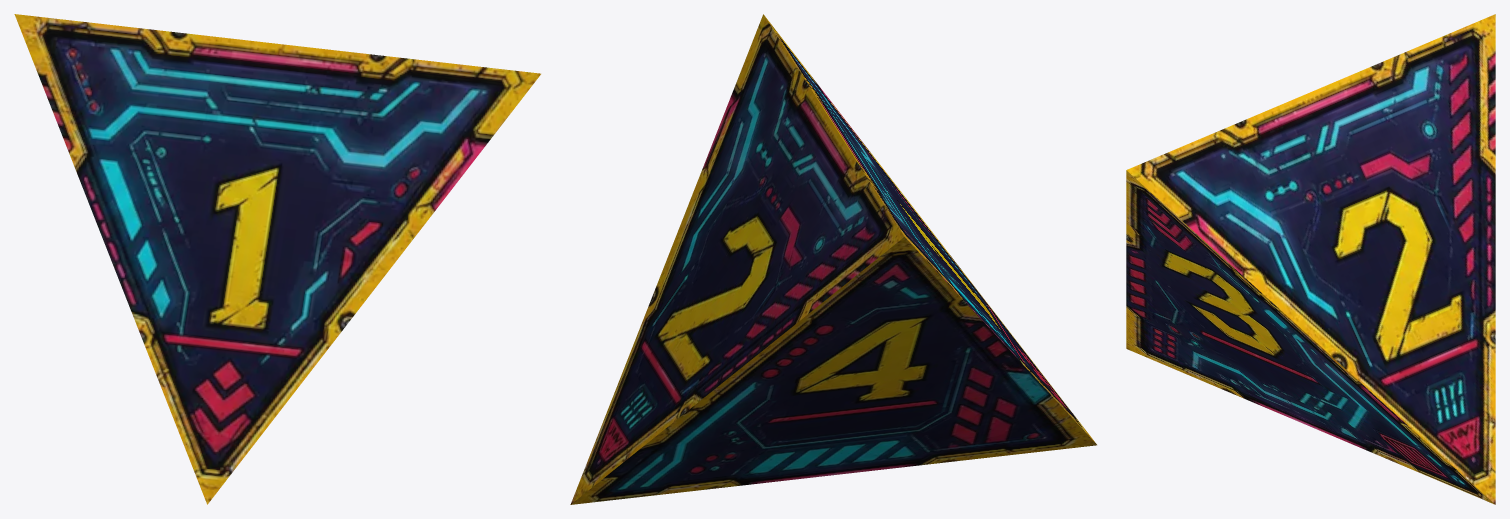
3 renders of one model, left to right at view 1: azimuth 30°, elevation 25°; view 2: azimuth 150°, elevation 25°; view 3: azimuth 270°, elevation 25°, orthographic. The views are drawn at different scales.
Parts seen in each view (by area): view 1: Themed_D4; view 2: Themed_D4; view 3: Themed_D4.
Part boxes in pixels (x1=…): Themed_D4: x1=14, y1=14, x2=540, y2=504; Themed_D4: x1=570, y1=14, x2=1096, y2=504; Themed_D4: x1=1126, y1=14, x2=1495, y2=504.
Size of the model in its own units: 0.8314 by 0.8314 by 0.8314.
Materials: 1 (1 with a texture image).
